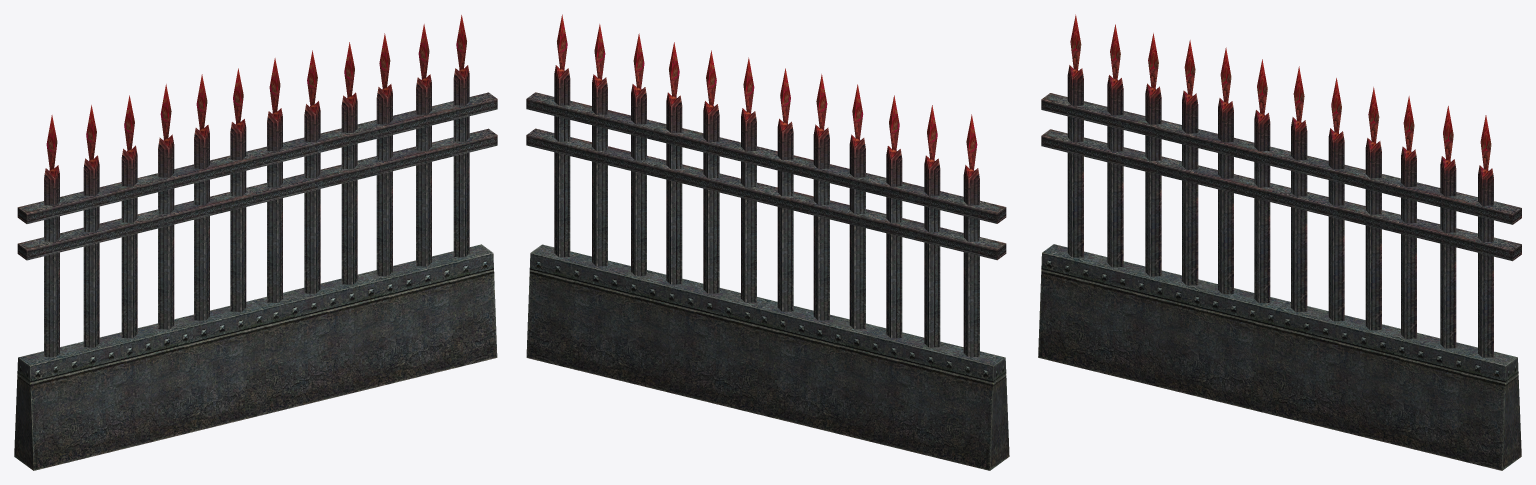
The model's file is flame_fence_00.fbx.
The picture shows the model from 3 angles, left to right: view 1: azimuth 30°, elevation 25°; view 2: azimuth 150°, elevation 25°; view 3: azimuth 330°, elevation 25°; orthographic projection.
Visible parts, largest first — view 1: flame_fence_00; view 2: flame_fence_00; view 3: flame_fence_00.
Part boxes in pixels (<box>): flame_fence_00: <box>14,15,497,470</box>; flame_fence_00: <box>526,14,1009,470</box>; flame_fence_00: <box>1038,14,1521,470</box>.
Size of the model in its own units: 15.13 by 10.65 by 1.09.
